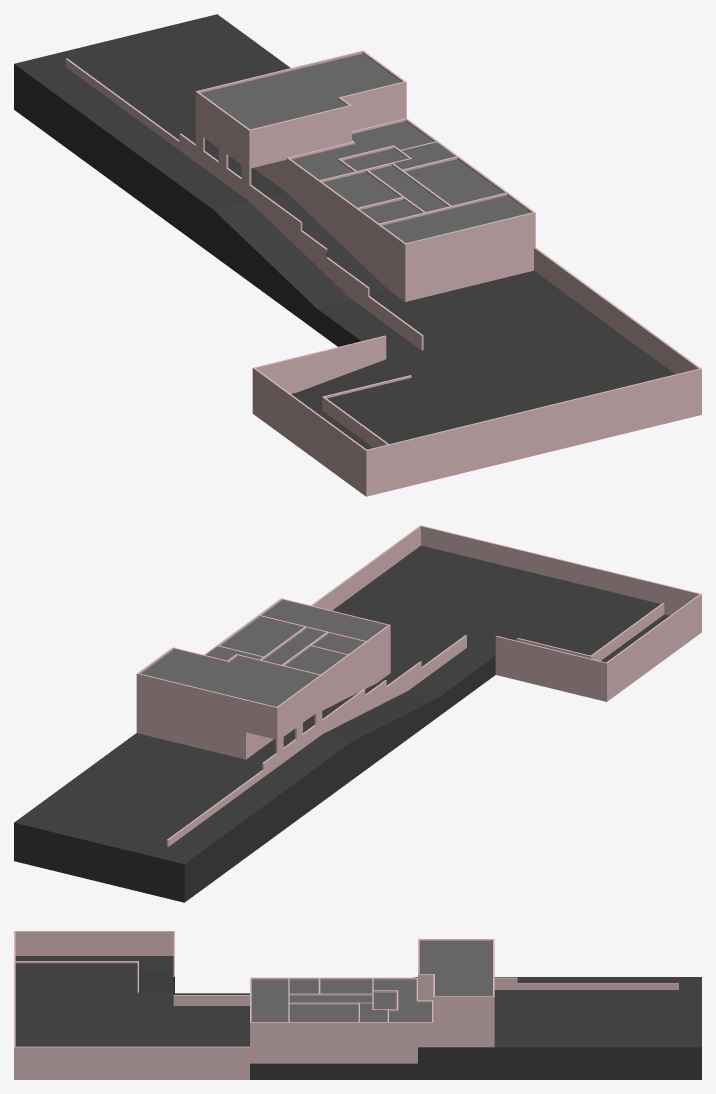
File: mam_v1_1.glb
3 views of the same model, one above another, from view 1: azimuth 30°, elevation 25°; view 2: azimuth 150°, elevation 25°; view 3: azimuth 270°, elevation 25° (orthographic). The views are drawn at different scales.
Parts seen in each view (by area): view 1: ground, masjid; view 2: ground, masjid; view 3: ground, masjid.
Boxes of the visible parts, bbox=[...] form: ground: bbox=[14, 14, 701, 496]; masjid: bbox=[195, 50, 535, 301]; ground: bbox=[14, 525, 701, 902]; masjid: bbox=[136, 598, 390, 766]; ground: bbox=[14, 931, 701, 1079]; masjid: bbox=[250, 939, 494, 1063].
Size of the model in its own units: 36 by 11.95 by 90.
